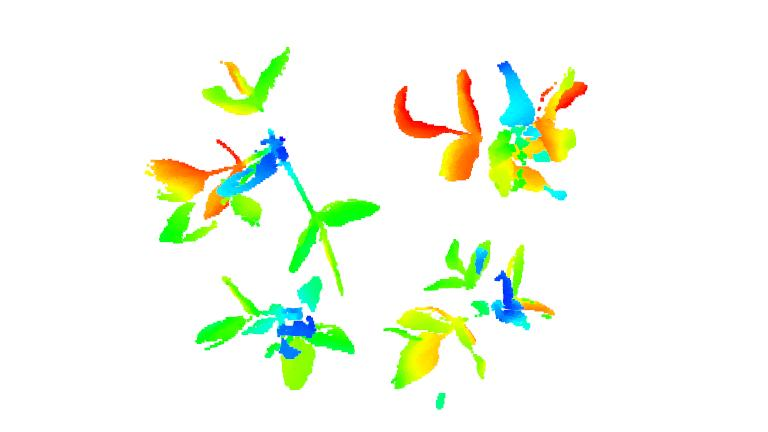mungbean: (138, 44, 384, 293), (388, 55, 590, 206), (378, 236, 556, 389), (197, 273, 357, 395)
